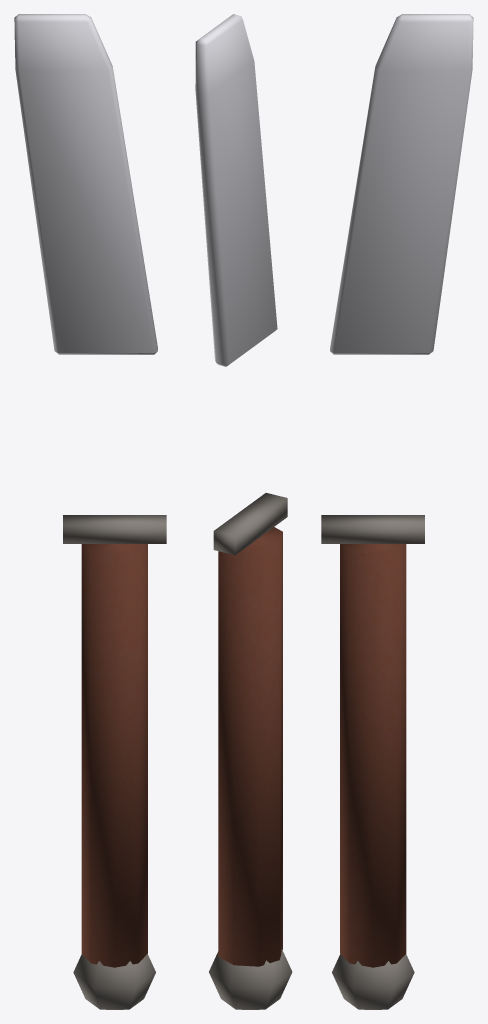
Rendered from hunting_knife.fbx.
3 renders of one model, left to right at view 1: azimuth 90°, elevation 25°; view 2: azimuth 150°, elevation 25°; view 3: azimuth 270°, elevation 25°, orthographic.
Visible parts, largest first — view 1: hunting_knife; view 2: hunting_knife; view 3: hunting_knife.
Part boxes in pixels (left/top/right/bottom): hunting_knife: left=14, top=14, right=166, bottom=1009; hunting_knife: left=195, top=14, right=292, bottom=1009; hunting_knife: left=321, top=14, right=473, bottom=1009.
Size of the model in its own units: 0.0173 by 0.265 by 0.0367.
Materials: 3 (1 with a texture image).
